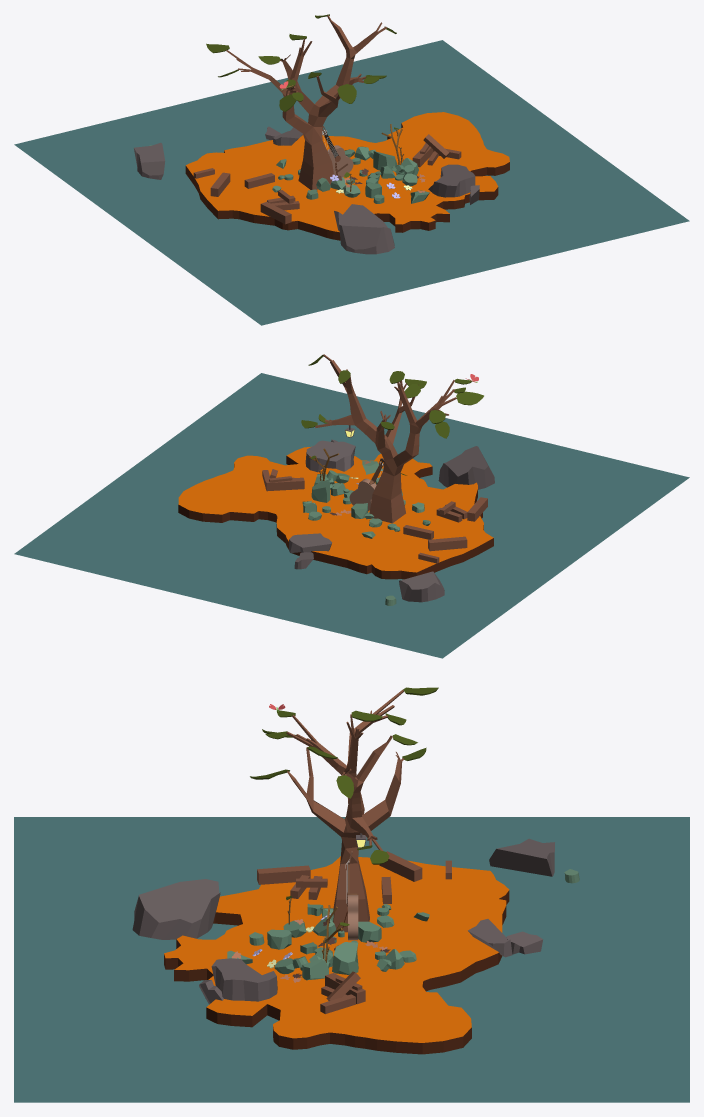
3 renders of one model, top to bottom at view 1: azimuth 30°, elevation 25°; view 2: azimuth 150°, elevation 25°; view 3: azimuth 270°, elevation 25°, orthographic. The views are drawn at different scales.
Parts seen in each view (by area): view 1: Floor, TreeIsland, TreeIsland.001, RandomObjects.035, RandomObjects.034, RandomObjects.038; view 2: Floor, TreeIsland, TreeIsland.001, RandomObjects.035, RandomObjects.034, RandomObjects.038, RandomObjects.036, GuitarOutsidePlane.001, RandomObjects.094; view 3: Floor, TreeIsland, TreeIsland.001, RandomObjects.035, RandomObjects.034, RandomObjects.038, RandomObjects.036, RandomObjects.087, RandomObjects.002, RandomObjects.094, RandomObjects.037.
Boxes of the visible parts, x1=… form: Floor: x1=14, y1=40, x2=689, y2=325; TreeIsland: x1=185, y1=112, x2=509, y2=240; TreeIsland.001: x1=226, y1=15, x2=386, y2=189; RandomObjects.035: x1=334, y1=204, x2=394, y2=254; RandomObjects.034: x1=428, y1=164, x2=475, y2=197; RandomObjects.038: x1=134, y1=142, x2=165, y2=179; Floor: x1=14, y1=373, x2=689, y2=658; TreeIsland: x1=178, y1=446, x2=493, y2=579; TreeIsland.001: x1=315, y1=354, x2=456, y2=523; RandomObjects.035: x1=438, y1=446, x2=494, y2=489; RandomObjects.034: x1=305, y1=440, x2=355, y2=472; RandomObjects.038: x1=399, y1=571, x2=444, y2=602; RandomObjects.036: x1=289, y1=533, x2=332, y2=552; GuitarOutsidePlane.001: x1=349, y1=478, x2=376, y2=511; RandomObjects.094: x1=428, y1=536, x2=467, y2=551; Floor: x1=14, y1=817, x2=689, y2=1102; TreeIsland: x1=164, y1=856, x2=509, y2=1054; TreeIsland.001: x1=286, y1=689, x2=404, y2=932; RandomObjects.035: x1=132, y1=879, x2=220, y2=939; RandomObjects.034: x1=211, y1=958, x2=277, y2=1001; RandomObjects.038: x1=489, y1=838, x2=554, y2=876; RandomObjects.036: x1=468, y1=919, x2=512, y2=957; RandomObjects.087: x1=257, y1=865, x2=310, y2=884; RandomObjects.002: x1=332, y1=942, x2=358, y2=974; RandomObjects.094: x1=379, y1=851, x2=422, y2=881; RandomObjects.037: x1=506, y1=931, x2=543, y2=954.
Bounding box in the file's own units: 20 × 7.11 × 20.
